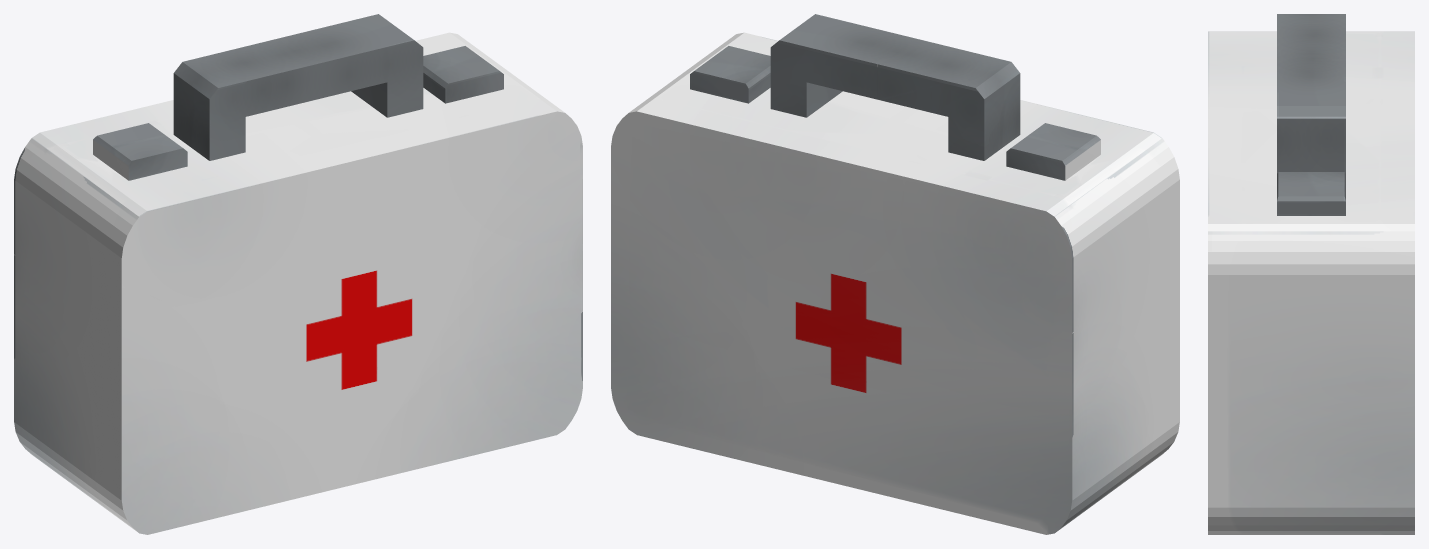
Rendered from CatIBandage.fbx.
3 renders of one model, left to right at view 1: azimuth 30°, elevation 25°; view 2: azimuth 150°, elevation 25°; view 3: azimuth 270°, elevation 25°, orthographic. The views are drawn at different scales.
Visible parts, largest first — view 1: Bandage; view 2: Bandage; view 3: Bandage.
Boxes of the visible parts, <box> form: Bandage: <box>14,14,582,534</box>; Bandage: <box>611,14,1179,534</box>; Bandage: <box>1208,14,1414,534</box>.
Size of the model in its own units: 260 by 213 by 105.
1 material, 1 textured.
